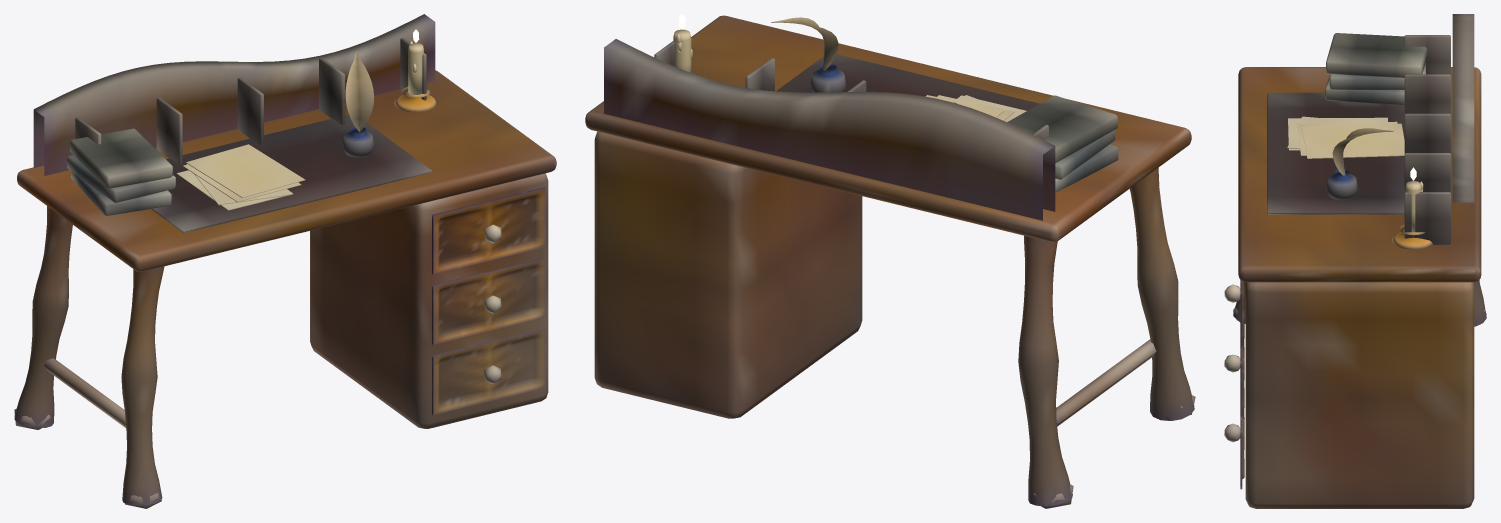
The model's file is calisma_masasi.glb.
3 renders of one model, left to right at view 1: azimuth 30°, elevation 25°; view 2: azimuth 150°, elevation 25°; view 3: azimuth 270°, elevation 25°, orthographic. The views are drawn at different scales.
Parts seen in each view (by area): view 1: calisma_masasi_LOD0; view 2: calisma_masasi_LOD0; view 3: calisma_masasi_LOD0.
Boxes of the visible parts, x1,y1,x2,y2 form: calisma_masasi_LOD0: (14,14,556,508); calisma_masasi_LOD0: (585,14,1195,508); calisma_masasi_LOD0: (1224,14,1486,508).
Size of what is drawn, in the model's own units: 1.37 by 1.02 by 0.7353.
